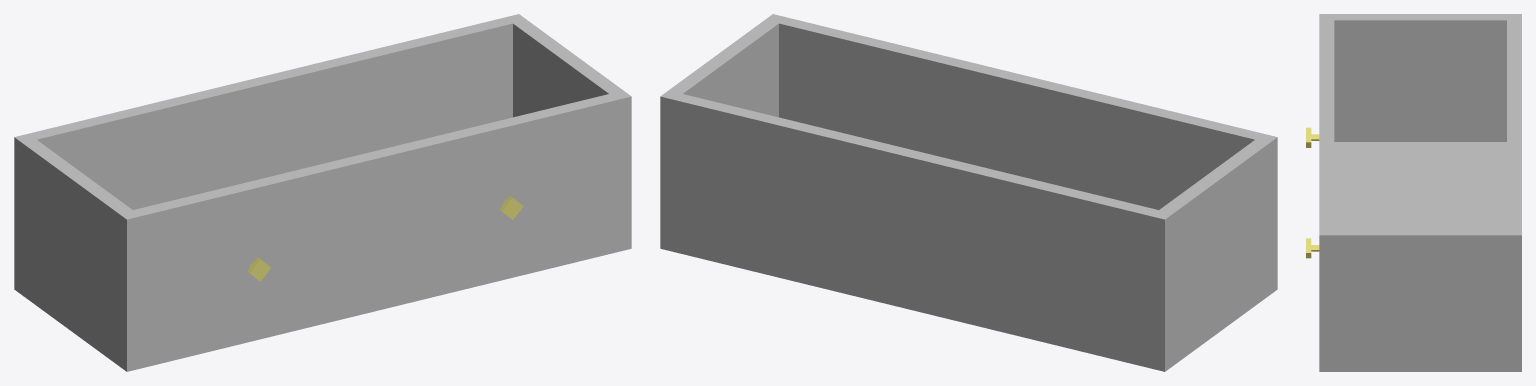
The model's file is Itr_Wardrobe1_Drawer_06.FBX.
The picture shows the model from 3 angles, left to right: view 1: azimuth 30°, elevation 25°; view 2: azimuth 150°, elevation 25°; view 3: azimuth 270°, elevation 25°; orthographic projection. The views are drawn at different scales.
Parts seen in each view (by area): view 1: Itr_Wardrobe1_Drawer_06; view 2: Itr_Wardrobe1_Drawer_06; view 3: Itr_Wardrobe1_Drawer_06.
Boxes of the visible parts, x1,y1,x2,y2 form: Itr_Wardrobe1_Drawer_06: (14, 14, 631, 371); Itr_Wardrobe1_Drawer_06: (660, 14, 1277, 371); Itr_Wardrobe1_Drawer_06: (1306, 14, 1521, 371).
Bounding box in the file's own units: 40.74 × 11.75 × 16.8.
